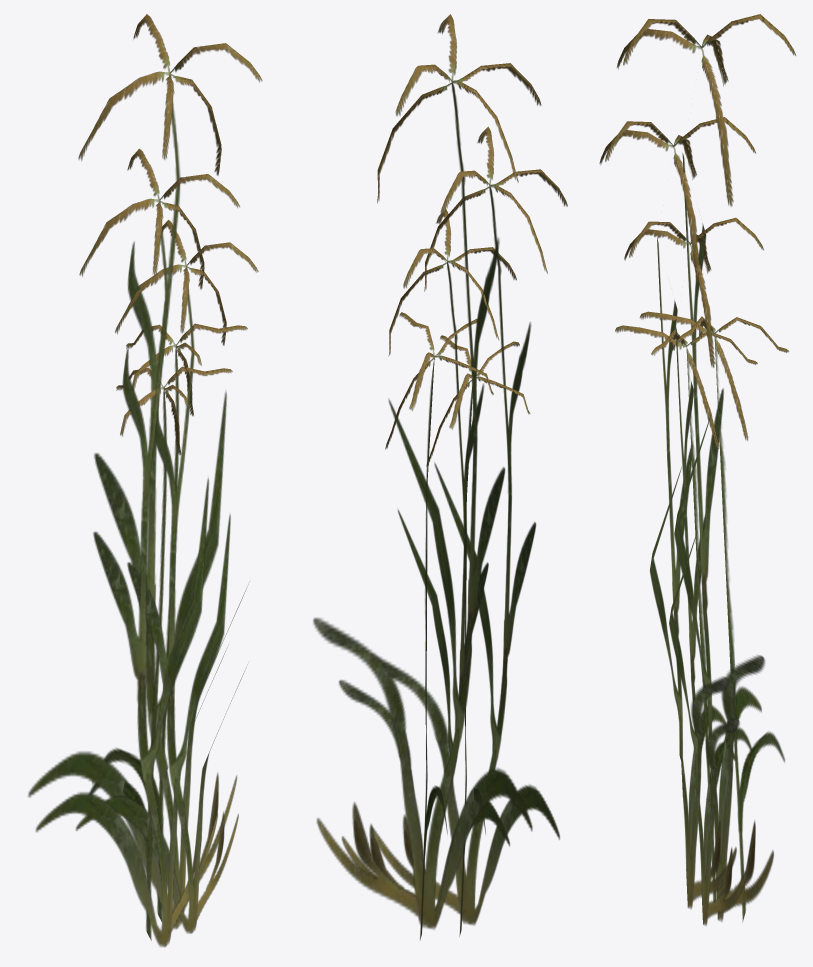
The model's file is grass_clump_a.glb.
3 renders of one model, left to right at view 1: azimuth 30°, elevation 25°; view 2: azimuth 150°, elevation 25°; view 3: azimuth 270°, elevation 25°, orthographic. The views are drawn at different scales.
Parts seen in each view (by area): view 1: grass_bermuda_01_seedling_b.003, grass_bermuda_01_seedling_b.004, grass_bermuda_01_seedling_b.005, grass_bermuda_01_seedling_c.002, grass_bermuda_01_seedling_c.003; view 2: grass_bermuda_01_seedling_b.003, grass_bermuda_01_seedling_b.004, grass_bermuda_01_seedling_b.005, grass_bermuda_01_seedling_c.003, grass_bermuda_01_seedling_c.002; view 3: grass_bermuda_01_seedling_b.003, grass_bermuda_01_seedling_b.004, grass_bermuda_01_seedling_b.005, grass_bermuda_01_seedling_c.003, grass_bermuda_01_seedling_c.002.
Boxes of the visible parts, x1,y1,x2,y2 form: grass_bermuda_01_seedling_b.003: (28, 14, 262, 929); grass_bermuda_01_seedling_b.004: (35, 148, 239, 947); grass_bermuda_01_seedling_b.005: (75, 220, 258, 933); grass_bermuda_01_seedling_c.002: (89, 366, 232, 940); grass_bermuda_01_seedling_c.003: (92, 323, 247, 922); grass_bermuda_01_seedling_b.003: (313, 14, 541, 929); grass_bermuda_01_seedling_b.004: (371, 126, 567, 925); grass_bermuda_01_seedling_b.005: (339, 209, 516, 910); grass_bermuda_01_seedling_c.003: (385, 312, 493, 940); grass_bermuda_01_seedling_c.002: (426, 335, 530, 936); grass_bermuda_01_seedling_b.003: (617, 14, 796, 921); grass_bermuda_01_seedling_b.004: (599, 117, 755, 909); grass_bermuda_01_seedling_b.005: (624, 217, 763, 925); grass_bermuda_01_seedling_c.003: (639, 311, 788, 922); grass_bermuda_01_seedling_c.002: (615, 325, 757, 902).
Size of the model in its own units: 1.32 by 4.51 by 0.8988.
Materials: 1 (1 with a texture image).
